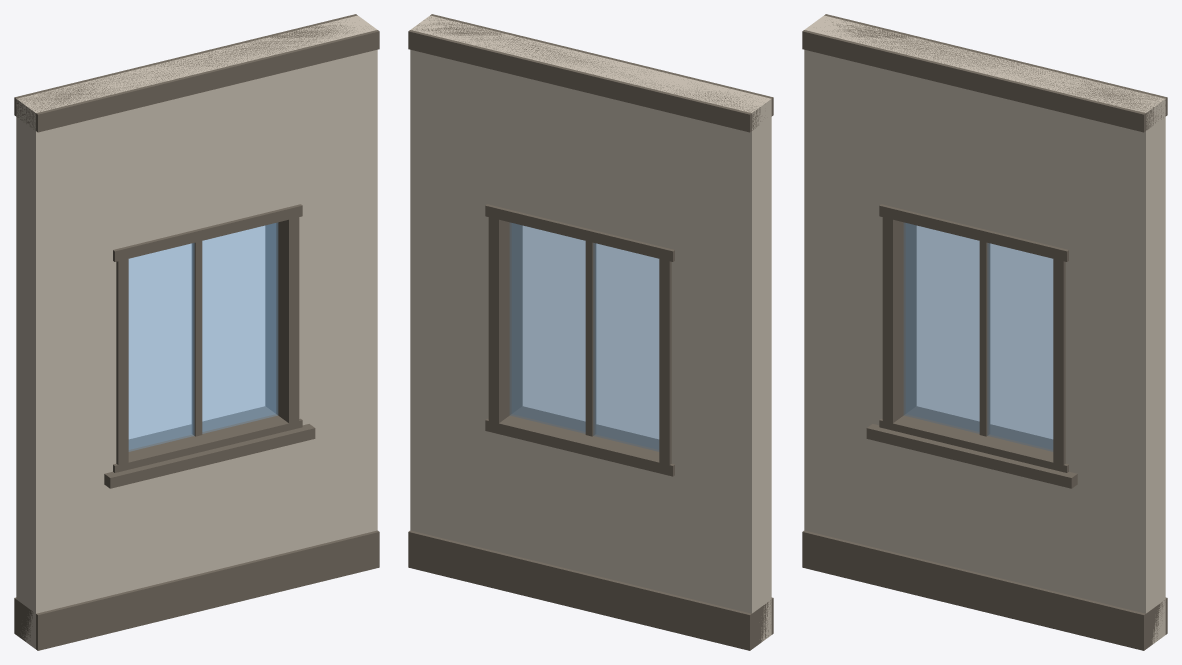
The model's file is wall_plaster_window.glb.
The picture shows the model from 3 angles, left to right: view 1: azimuth 30°, elevation 25°; view 2: azimuth 150°, elevation 25°; view 3: azimuth 330°, elevation 25°; orthographic projection.
Parts seen in each view (by area): view 1: wall_plaster_window; view 2: wall_plaster_window; view 3: wall_plaster_window.
Part boxes in pixels (left/top/right/bottom): wall_plaster_window: left=14, top=14, right=379, bottom=650; wall_plaster_window: left=408, top=14, right=773, bottom=650; wall_plaster_window: left=802, top=14, right=1167, bottom=650.
Size of the model in its own units: 2 by 3 by 0.28.
